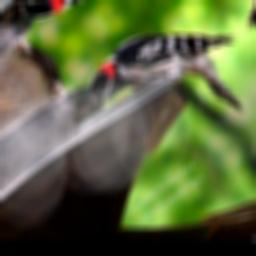Woodpecker: (68, 0, 256, 184)
